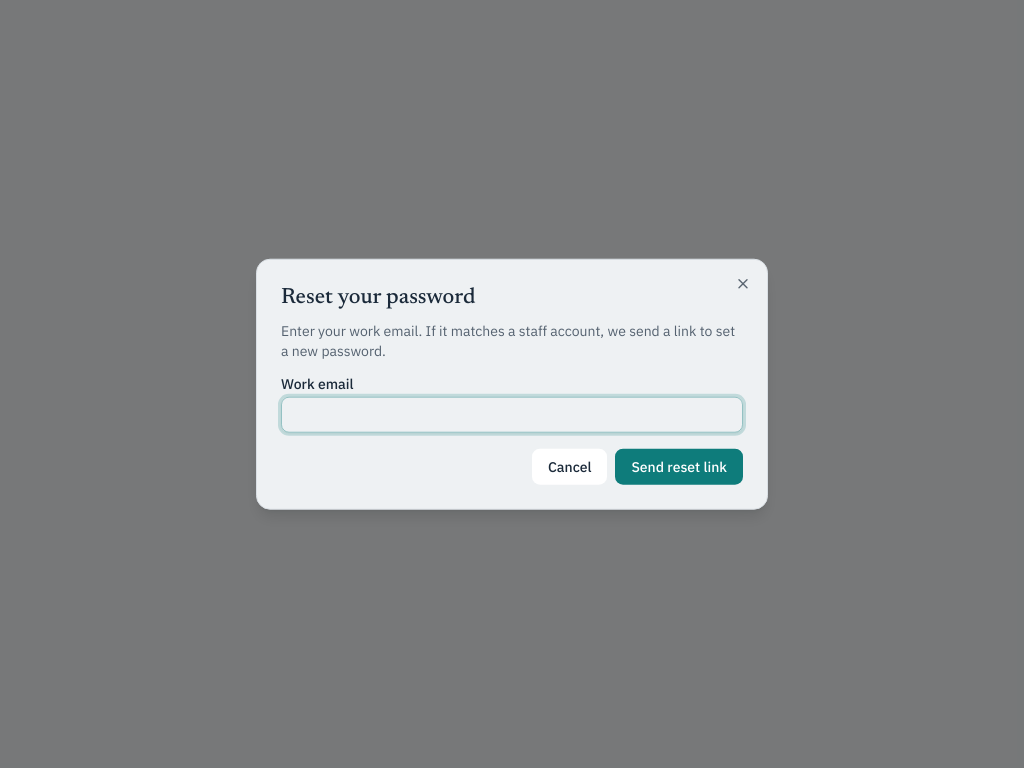
ForgotPasswordDialog › sends the request, closes, and shows the same message for any account
In the field labelled "Work email": x=512, y=414 x1=281 y1=396 x2=743 y2=432, type "  priya.nair@platform.example "
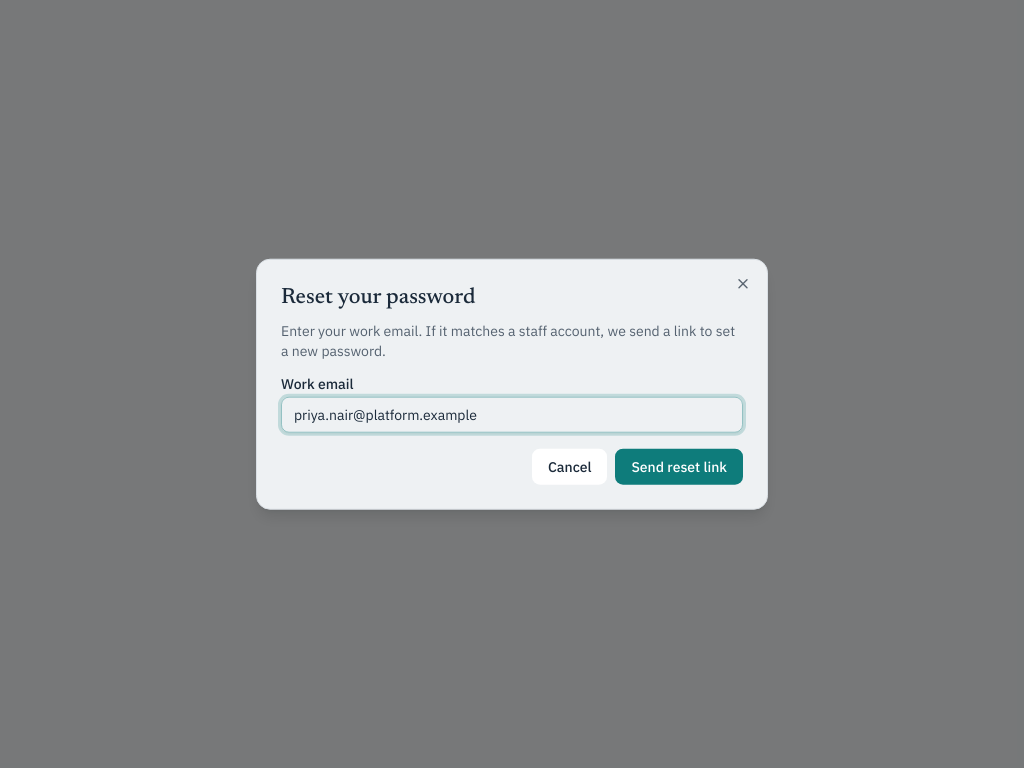
Click the button "Send reset link": x=679, y=466 x1=616 y1=448 x2=743 y2=484
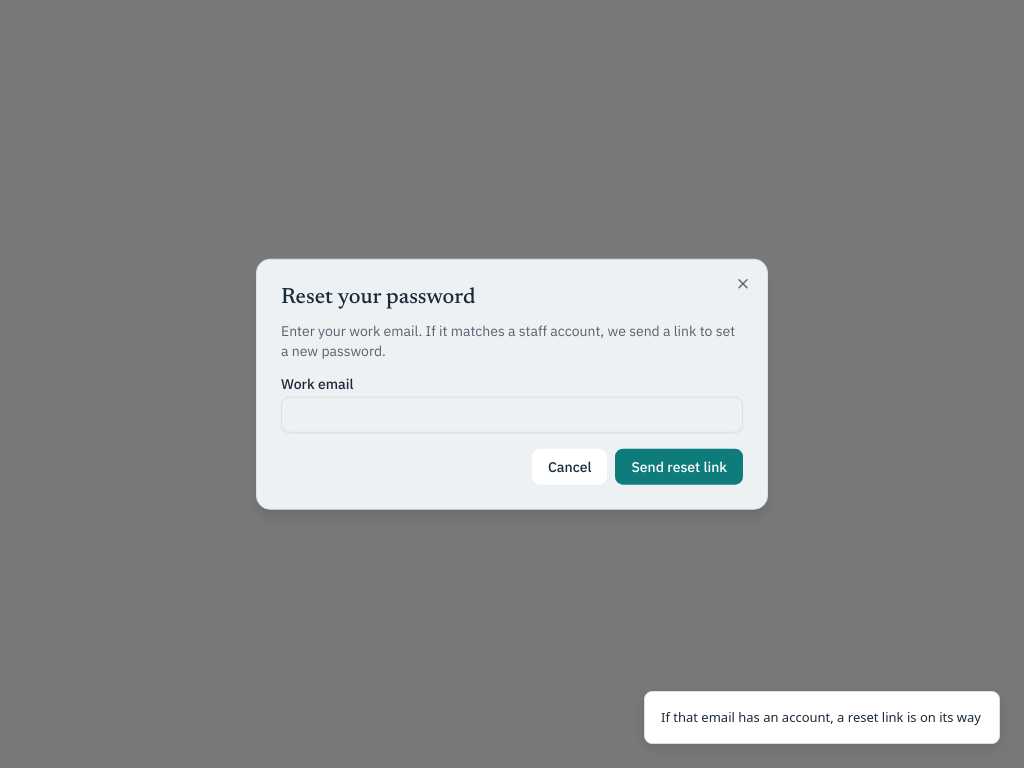
Result: the text "If that email has an account, a reset link is on its way" is shown at x1=661 y1=708 x2=981 y2=727
